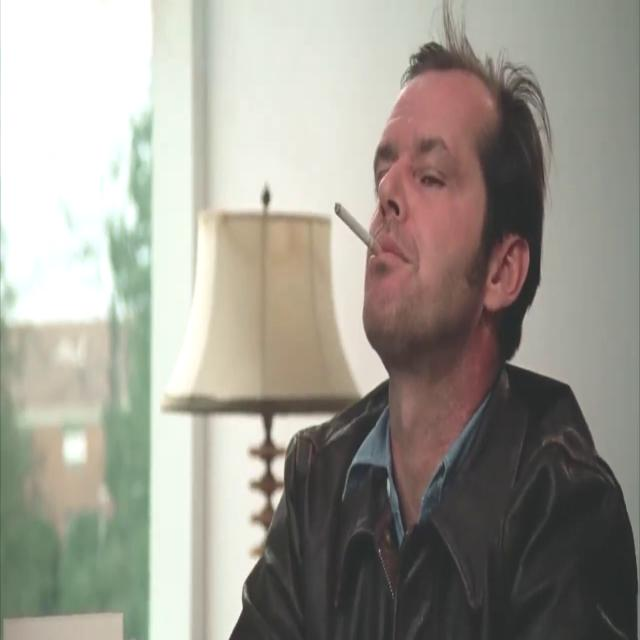Smooking: (331, 190, 375, 260)
